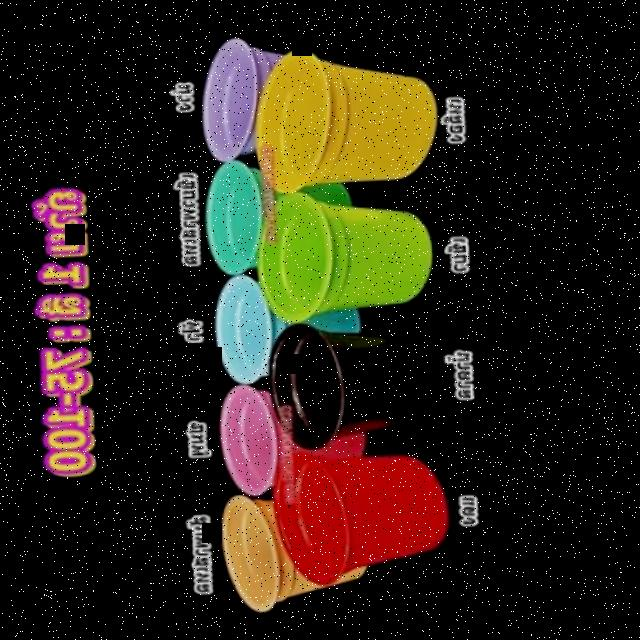plastic_cup: (202, 39, 368, 610), (250, 39, 440, 194), (260, 186, 433, 322), (266, 320, 434, 450), (275, 448, 448, 572)
